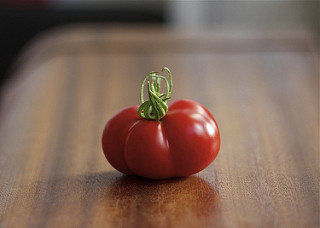tomato: (99, 101, 225, 183)
